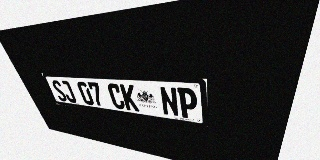0: (76, 81, 95, 106)
7: (86, 82, 106, 107)
C: (106, 83, 126, 110)
J: (59, 80, 77, 103)
K: (119, 84, 140, 112)
N: (159, 86, 179, 117)
P: (177, 87, 198, 119)
S: (50, 80, 68, 102)
